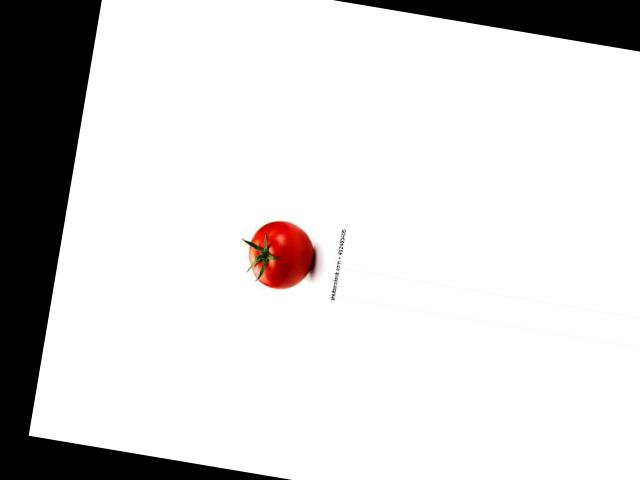tomato: (243, 216, 318, 292)
